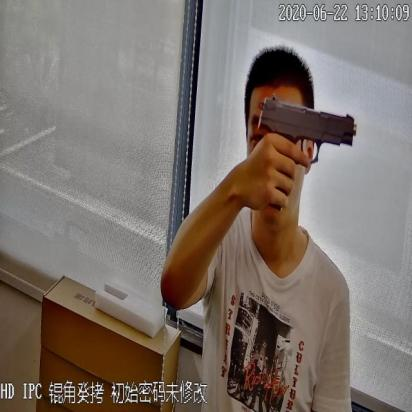Gun: (245, 92, 354, 218)
